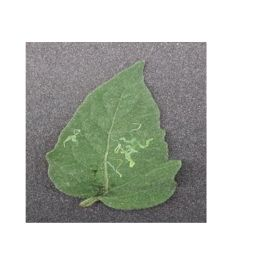liriomyza: (114, 123, 153, 170), (61, 128, 80, 148)
